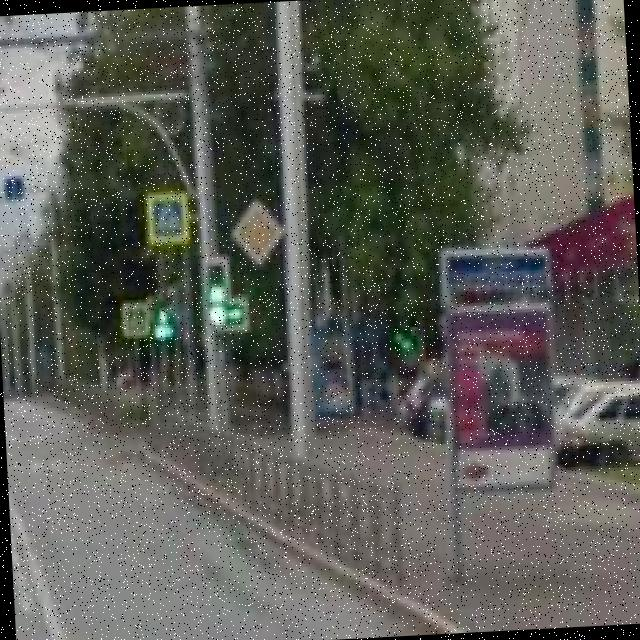Droga z pierwszenstwem: (228, 194, 288, 271)
Przejscie dla pieszych: (141, 188, 195, 252), (122, 300, 154, 340)
